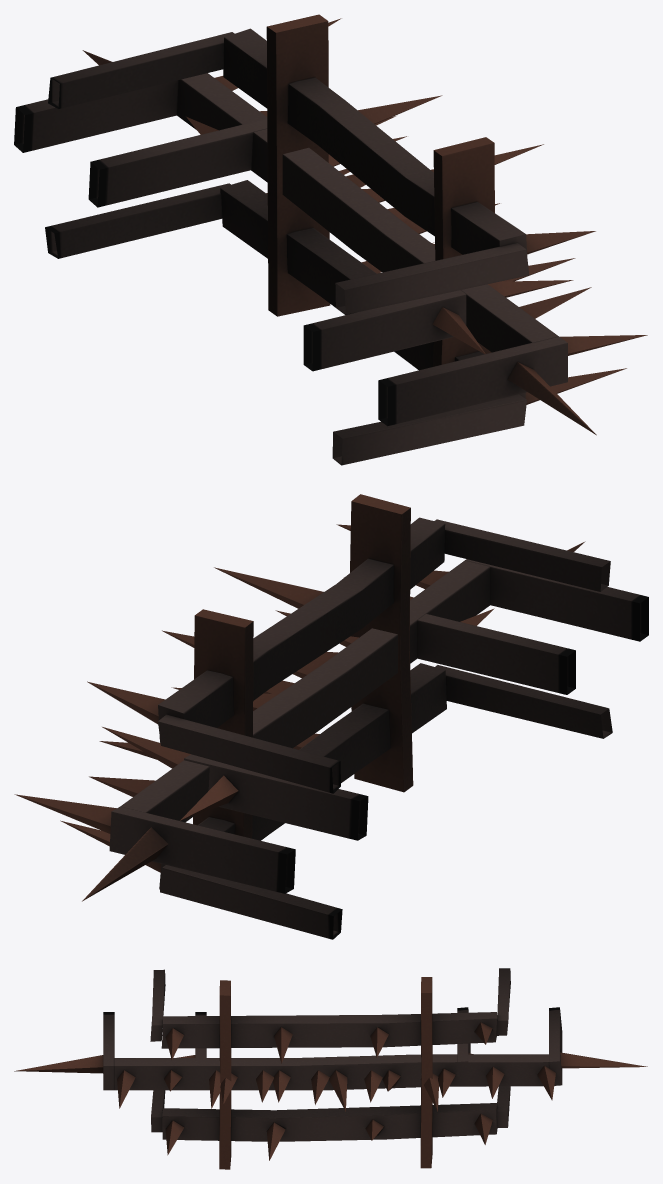
Rendered from Protection_v2.FBX.
3 views of the same model, one above another, from view 1: azimuth 30°, elevation 25°; view 2: azimuth 150°, elevation 25°; view 3: azimuth 270°, elevation 25° (orthographic). The views are drawn at different scales.
Visible parts, largest first — view 1: Protection_v2_1, Protection_v2_3, Protection_v2_2; view 2: Protection_v2_1, Protection_v2_2, Protection_v2_3; view 3: Protection_v2_1, Protection_v2_2, Protection_v2_3.
Part boxes in pixels (left/top/right/bottom): Protection_v2_1: left=45, top=14, right=626, bottom=465; Protection_v2_3: left=88, top=116, right=573, bottom=371; Protection_v2_2: left=14, top=50, right=647, bottom=435; Protection_v2_1: left=60, top=494, right=612, bottom=939; Protection_v2_2: left=14, top=541, right=648, bottom=901; Protection_v2_3: left=99, top=608, right=575, bottom=840; Protection_v2_1: left=150, top=968, right=510, bottom=1169; Protection_v2_2: left=14, top=1007, right=647, bottom=1111; Protection_v2_3: left=177, top=1007, right=473, bottom=1111.
Bounding box in the file's own units: 0.7936 × 0.702 × 2.28.
